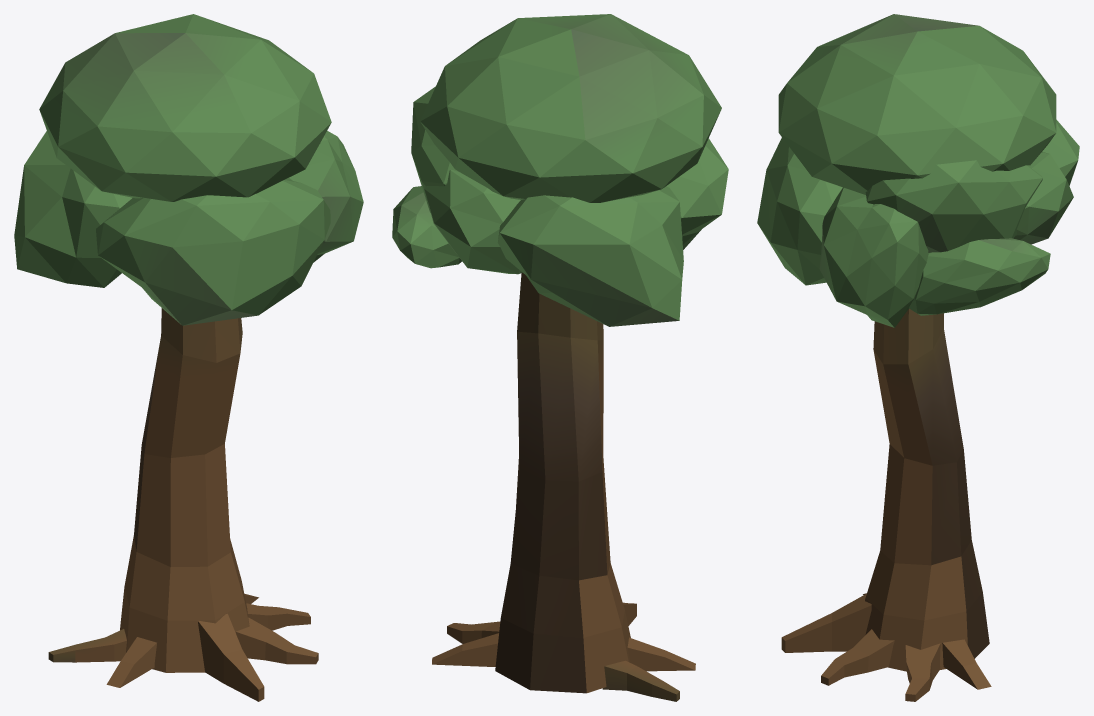
The model's file is Tree1 1.fbx.
3 views of the same model, side by side, from view 1: azimuth 30°, elevation 25°; view 2: azimuth 150°, elevation 25°; view 3: azimuth 270°, elevation 25° (orthographic). The views are drawn at different scales.
Visible parts, largest first — view 1: Tree1; view 2: Tree1; view 3: Tree1.
Boxes of the visible parts, bbox=[...] form: Tree1: bbox=[14, 14, 363, 701]; Tree1: bbox=[392, 14, 728, 701]; Tree1: bbox=[757, 14, 1079, 701].
Size of the model in its own units: 303 by 629 by 299.
